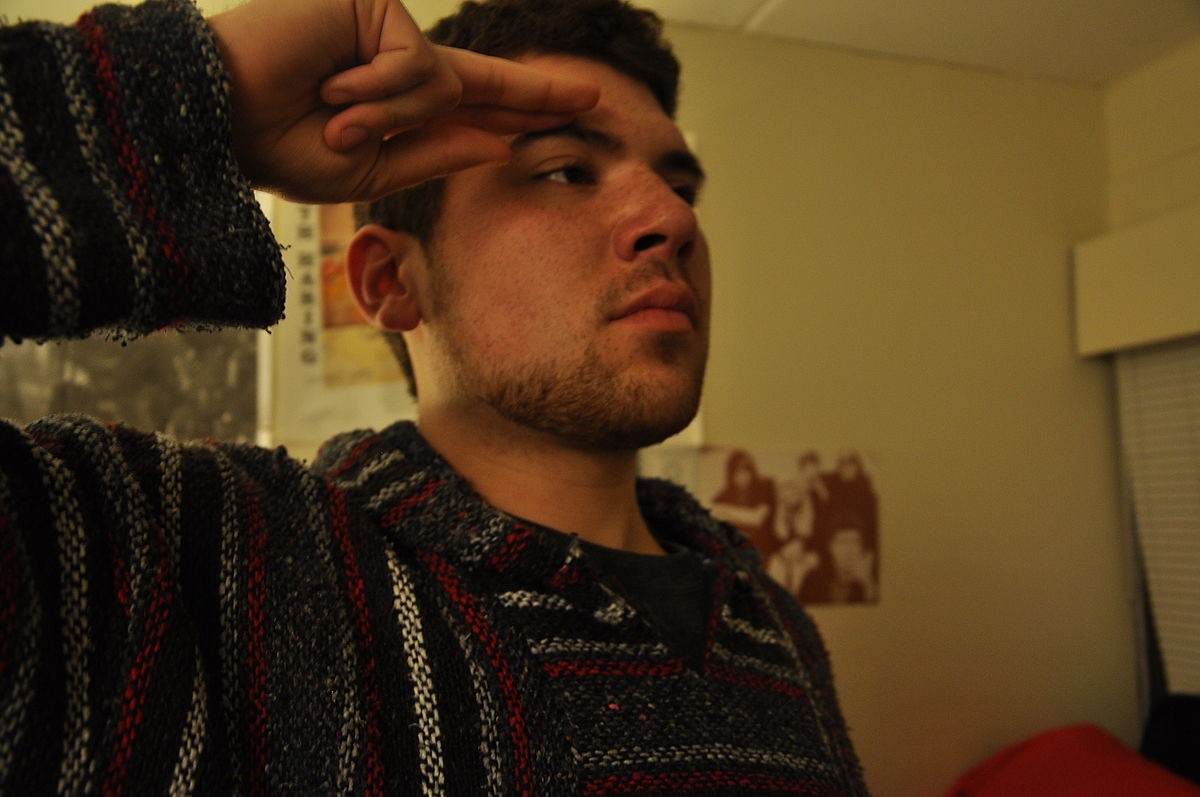finger: (318, 1, 431, 105), (319, 75, 470, 150), (466, 51, 615, 107), (436, 103, 596, 138)
